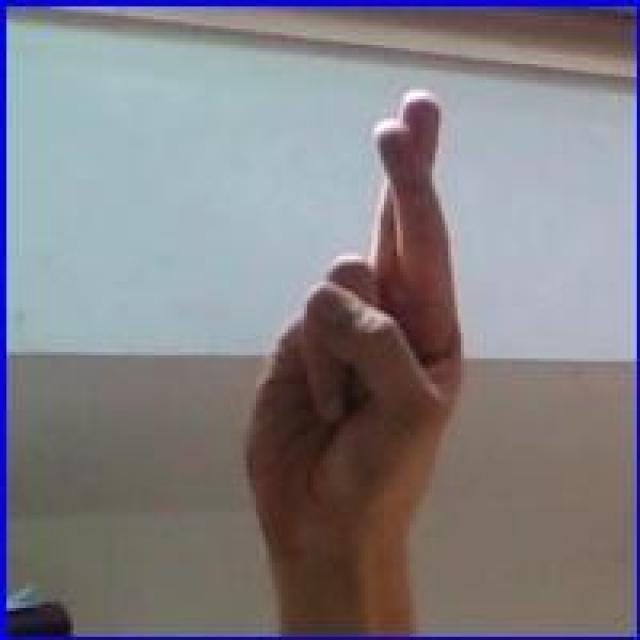R: (238, 83, 472, 560)
